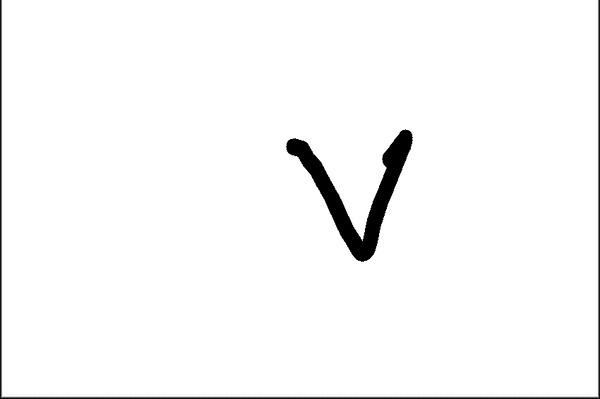V: (266, 123, 423, 268)
